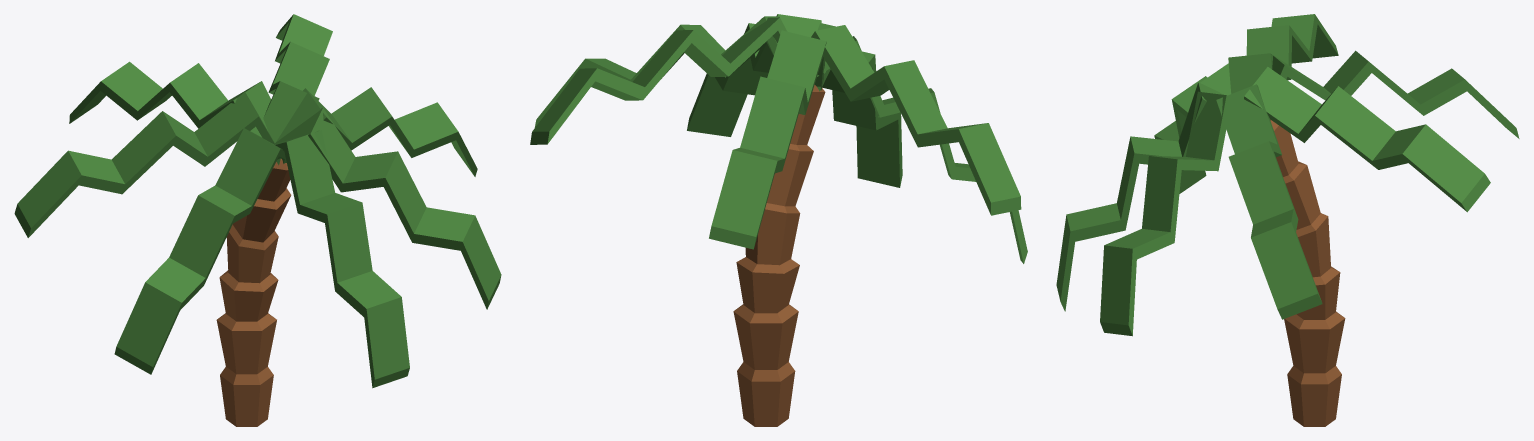
File: palm_tree.fbx
3 views of the same model, side by side, from view 1: azimuth 30°, elevation 25°; view 2: azimuth 150°, elevation 25°; view 3: azimuth 270°, elevation 25° (orthographic). The views are drawn at different scales.
Parts seen in each view (by area): view 1: palm_trnk; view 2: palm_trnk; view 3: palm_trnk.
Boxes of the visible parts, x1,y1,x2,y2 form: palm_trnk: (14, 14, 501, 426); palm_trnk: (530, 14, 1027, 426); palm_trnk: (1056, 14, 1519, 426).
Bounding box in the file's own units: 1864 × 1439 × 1675.
